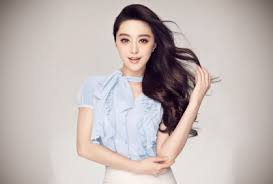noMask: (107, 3, 180, 81)
